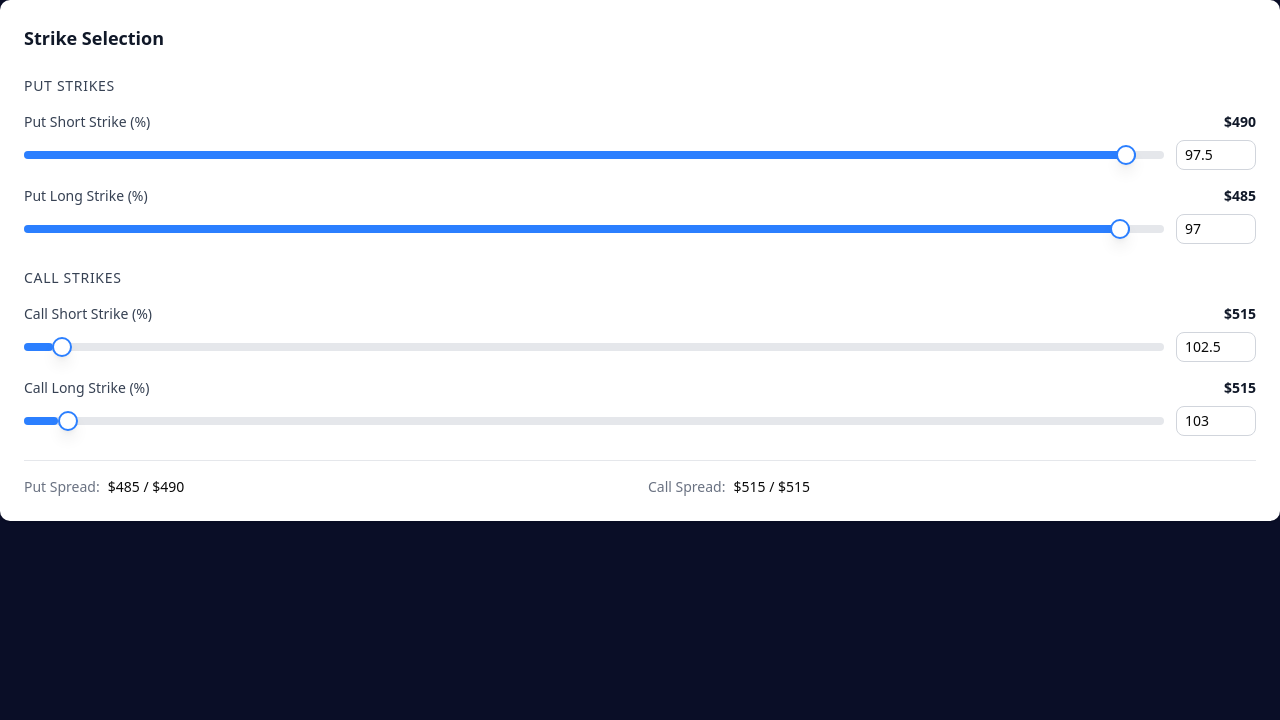
Test: StrikeSelector Component › handles slider movements correctly
Click the 1st slider at (1126, 155), box [1116,145,1136,165]
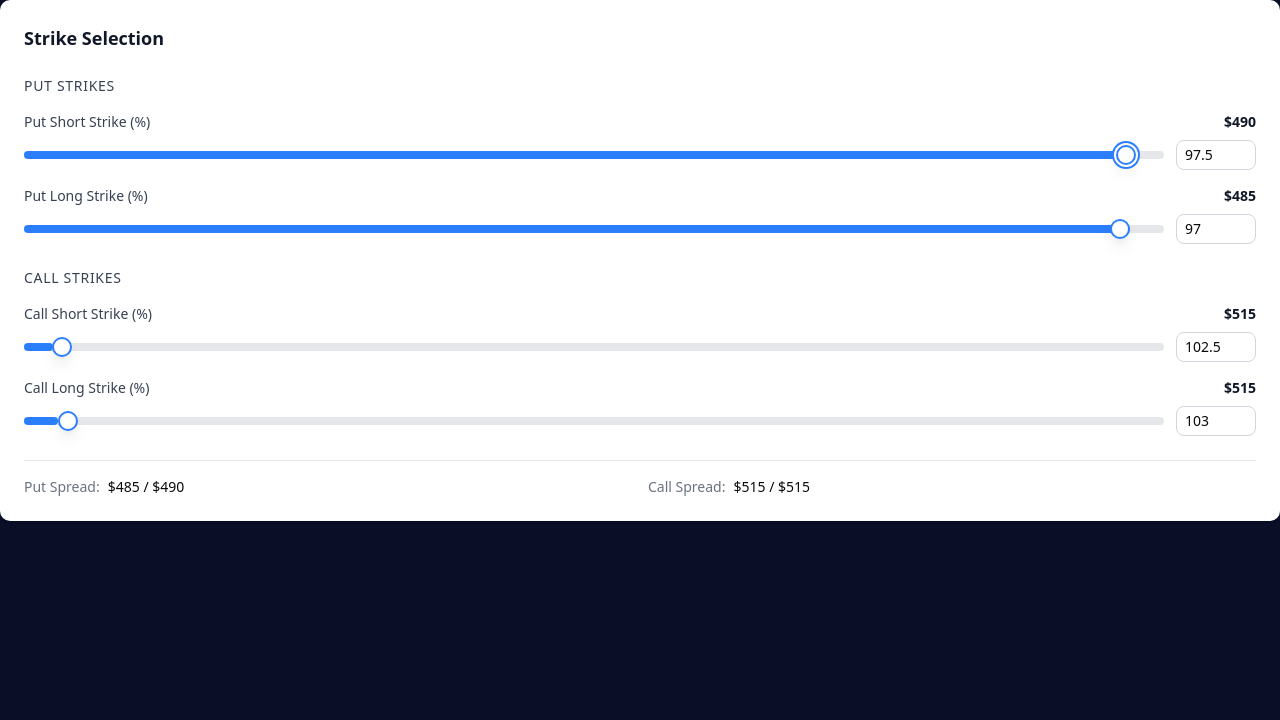
Type keys "[ArrowDown]"
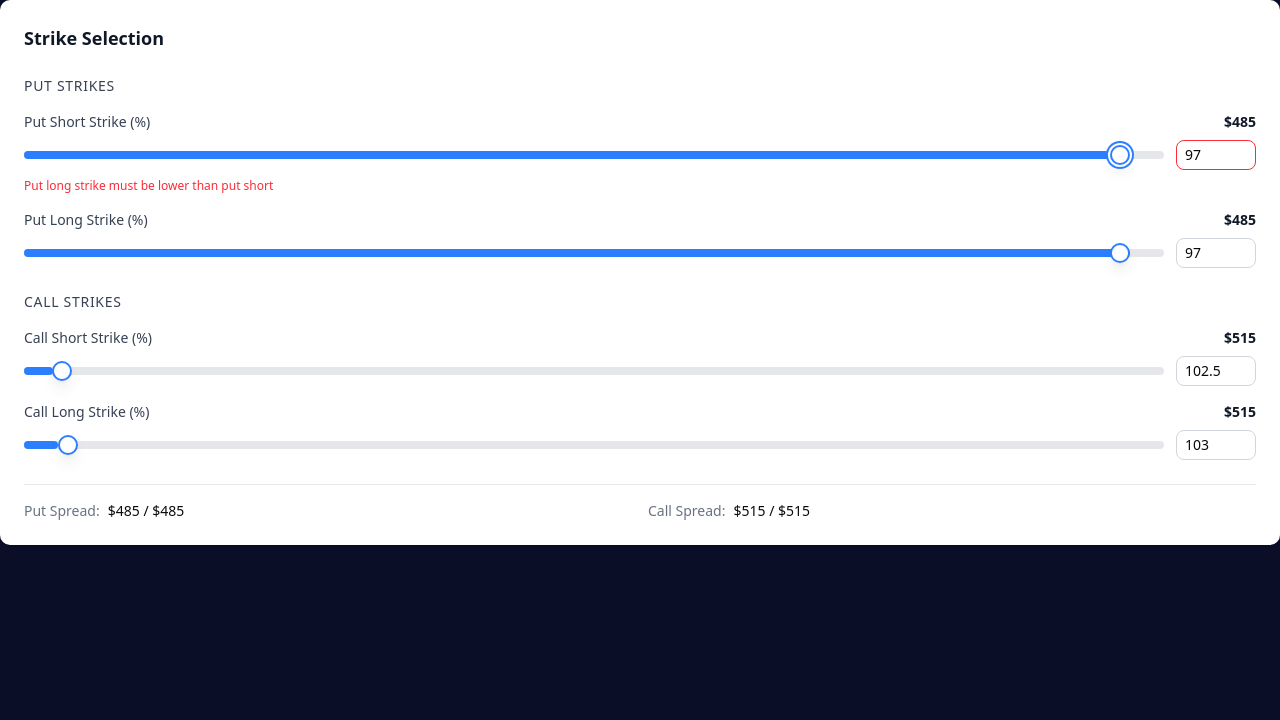
Type keys "[ArrowDown]"
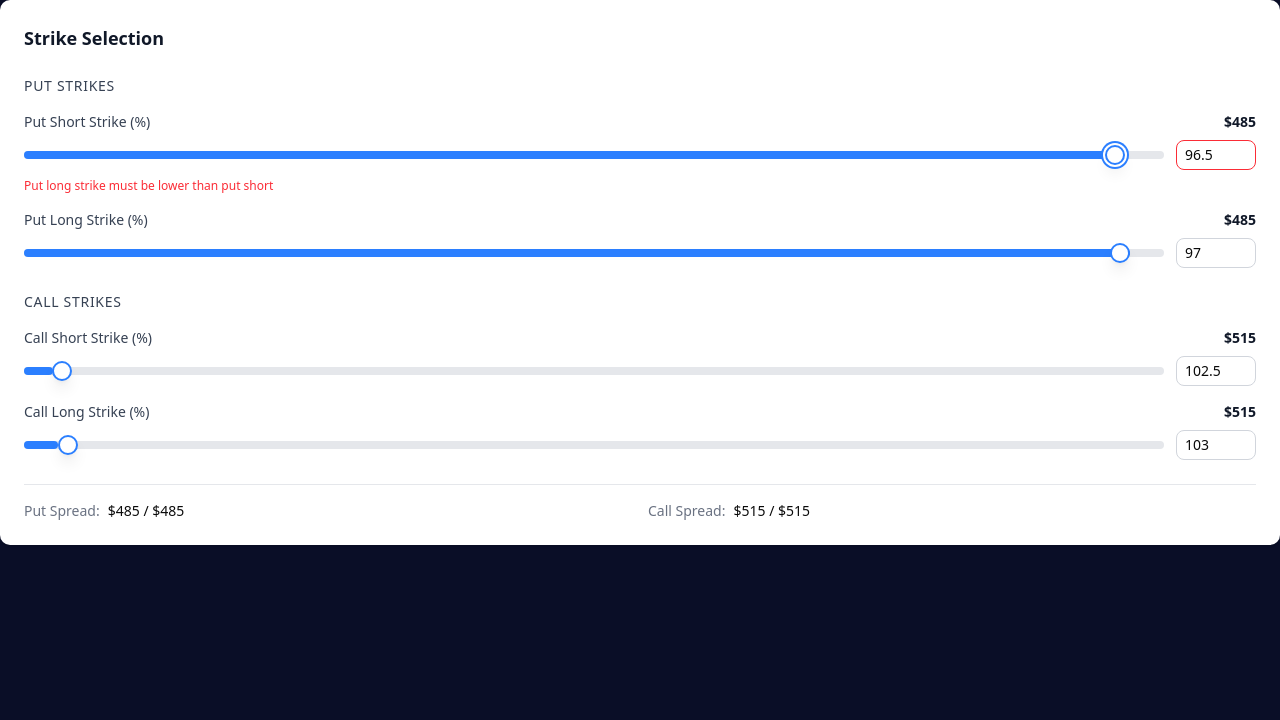
Type keys "[ArrowDown]"
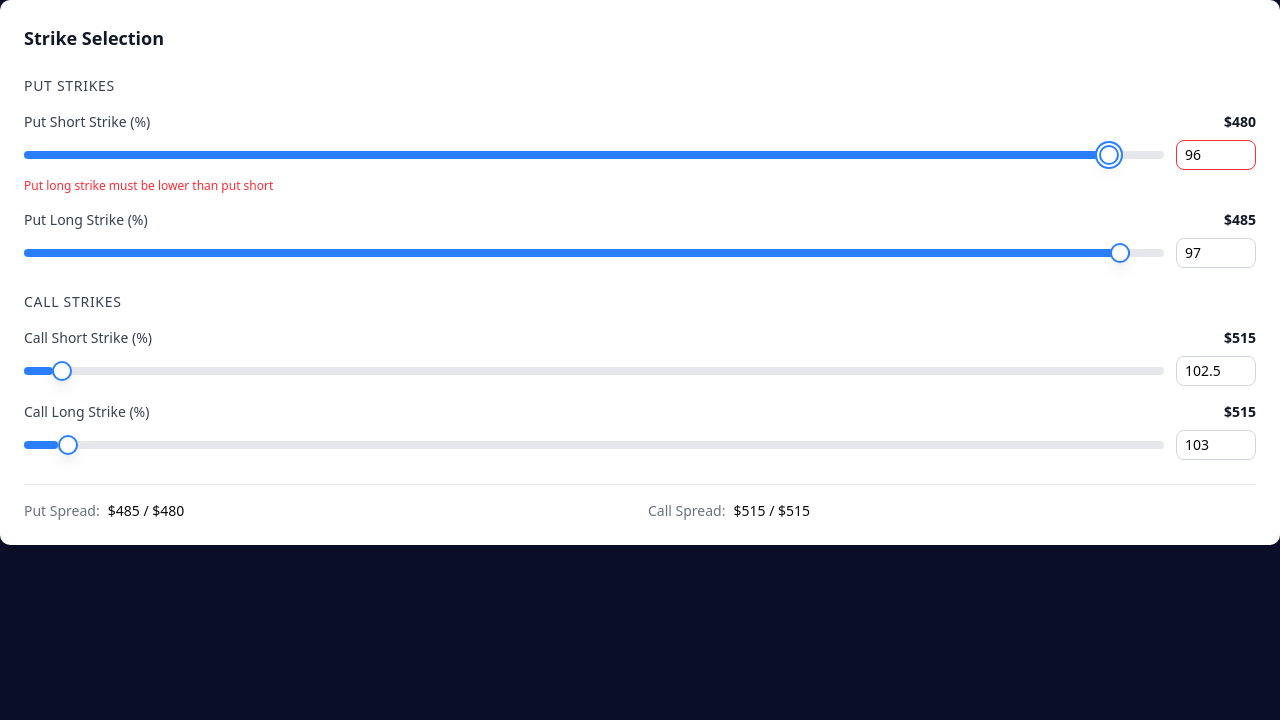
Type keys "[ArrowDown]"
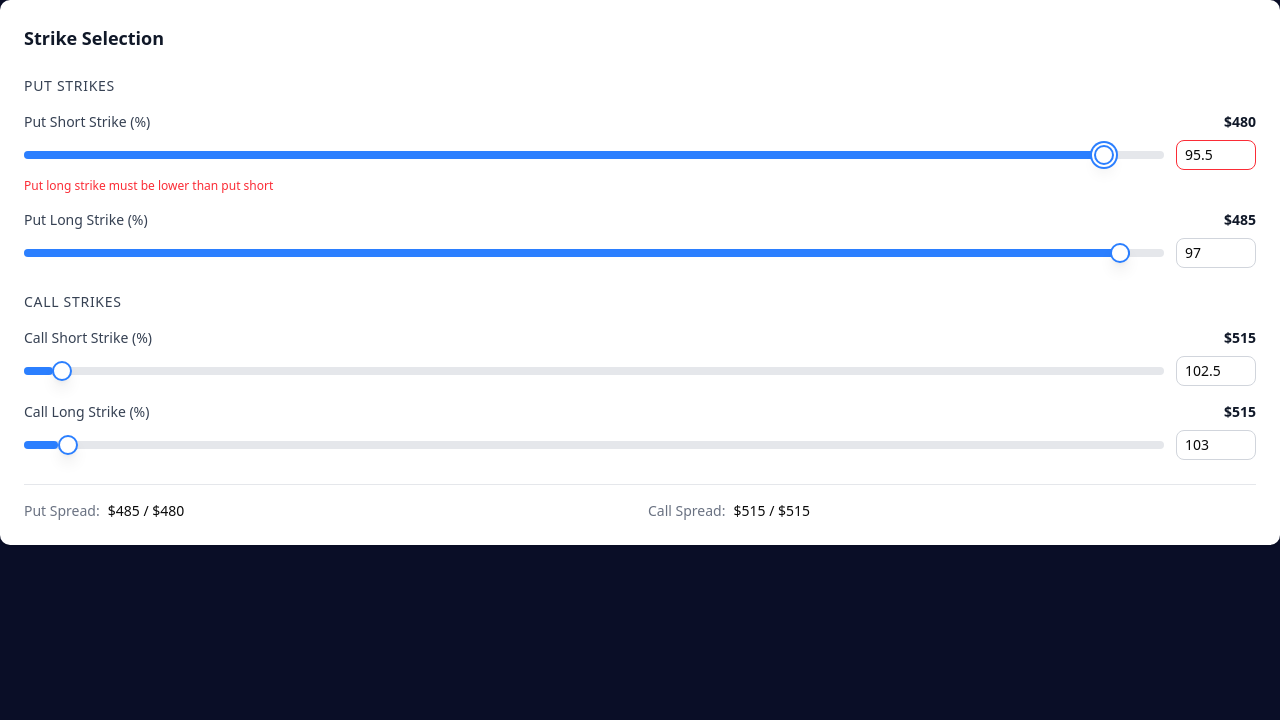
Type keys "[ArrowDown]"
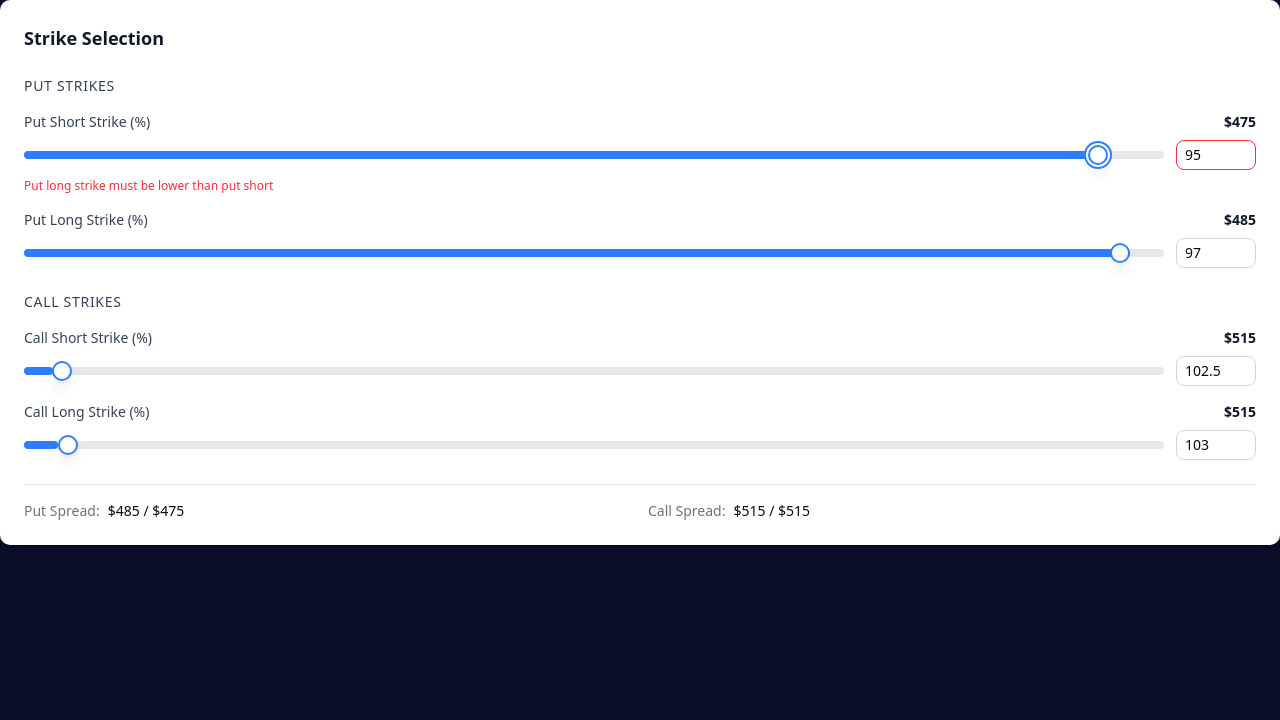
Now the number field labelled "Put Short Strike (%)" holds "95", box [1176,140,1256,170]
Now the text with test id "put-short-price" reads "$475", box [1224,112,1256,132]
